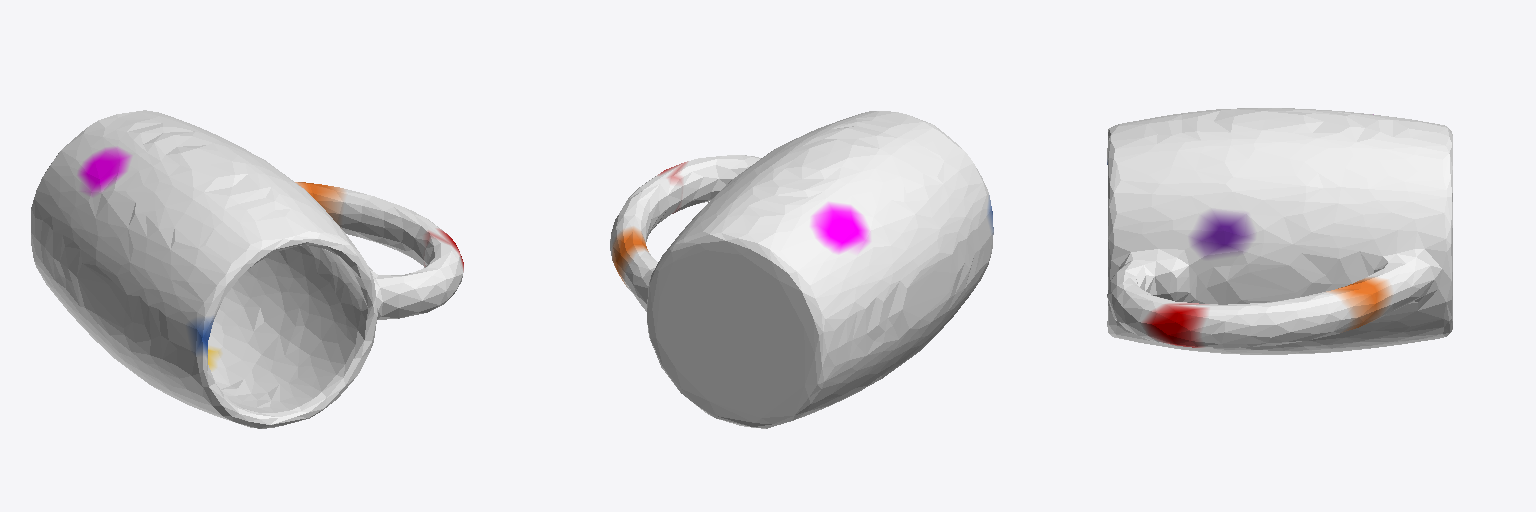
3 views of the same model, side by side, from view 1: azimuth 30°, elevation 25°; view 2: azimuth 150°, elevation 25°; view 3: azimuth 270°, elevation 25° (orthographic).
Size of the model in its own units: 1.56 by 1.04 by 1.49.
Materials: 1 (1 with a texture image).